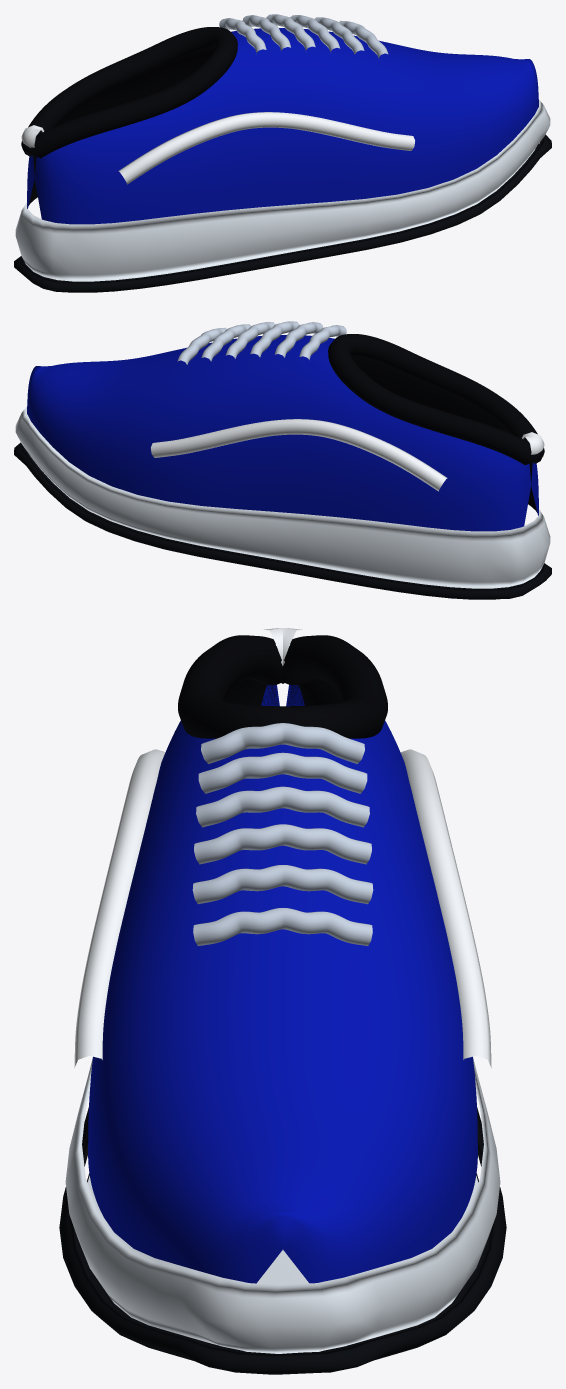
The model's file is aero-runner-cobalt.glb.
3 renders of one model, top to bottom at view 1: azimuth 30°, elevation 25°; view 2: azimuth 150°, elevation 25°; view 3: azimuth 270°, elevation 25°, orthographic. The views are drawn at different scales.
Parts seen in each view (by area): view 1: upper, midsole, collar, outsole, stripe, laces, lining; view 2: upper, midsole, collar, outsole, stripe-medial, laces, lining; view 3: upper, midsole, laces, collar, outsole, stripe-medial, stripe, lining.
Part boxes in pixels (left/top/right/bottom): upper: left=27, top=28, right=538, bottom=224; midsole: left=15, top=100, right=550, bottom=281; collar: left=21, top=27, right=237, bottom=158; outsole: left=14, top=134, right=551, bottom=292; stripe: left=118, top=112, right=414, bottom=184; laces: left=219, top=14, right=388, bottom=57; lining: left=28, top=48, right=214, bottom=205; upper: left=27, top=335, right=538, bottom=531; midsole: left=15, top=407, right=550, bottom=588; collar: left=328, top=334, right=544, bottom=465; outsole: left=14, top=442, right=551, bottom=599; stripe-medial: left=151, top=419, right=447, bottom=491; laces: left=177, top=321, right=346, bottom=364; lining: left=351, top=355, right=537, bottom=512; upper: left=88, top=685, right=477, bottom=1283; midsole: left=65, top=1057, right=500, bottom=1353; laces: left=192, top=723, right=373, bottom=945; collar: left=178, top=635, right=387, bottom=738; outsole: left=59, top=1107, right=506, bottom=1374; stripe-medial: left=400, top=749, right=491, bottom=1067; stripe: left=74, top=749, right=165, bottom=1067; lining: left=223, top=679, right=342, bottom=705.
Bounding box in the file's own units: 0.2892 × 0.1106 × 0.1085.
